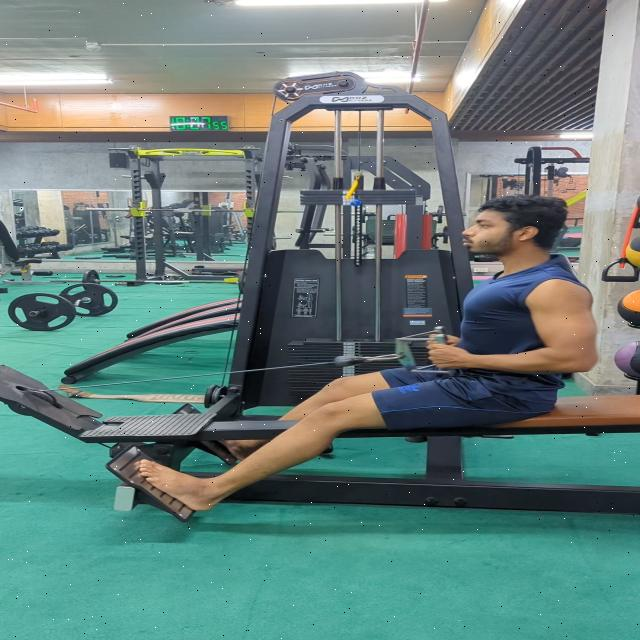Normal_RowingMachineExercise: (130, 192, 600, 514)
